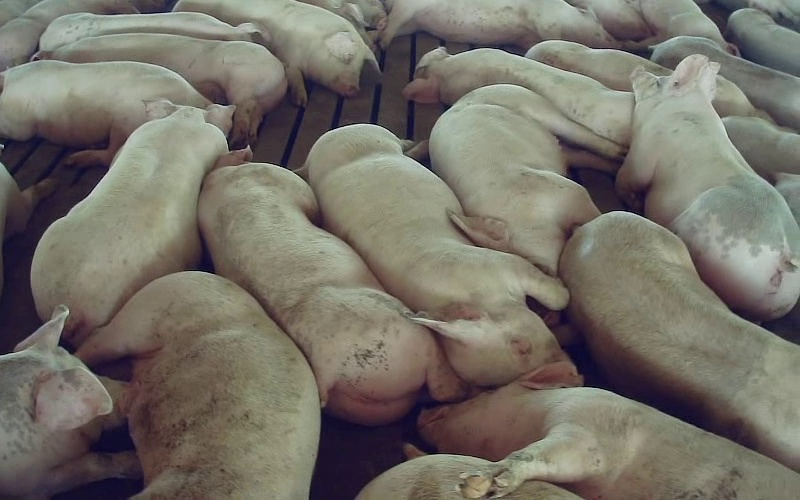pig: (198, 149, 467, 424), (304, 124, 567, 385), (560, 212, 799, 470), (77, 271, 319, 499), (418, 360, 799, 499), (32, 100, 233, 345), (617, 55, 799, 319), (429, 85, 624, 275), (0, 306, 139, 499), (402, 47, 634, 146), (0, 60, 209, 166), (174, 0, 379, 105), (651, 36, 799, 129), (379, 0, 617, 49), (39, 12, 267, 50), (526, 40, 671, 90), (623, 0, 733, 51)
